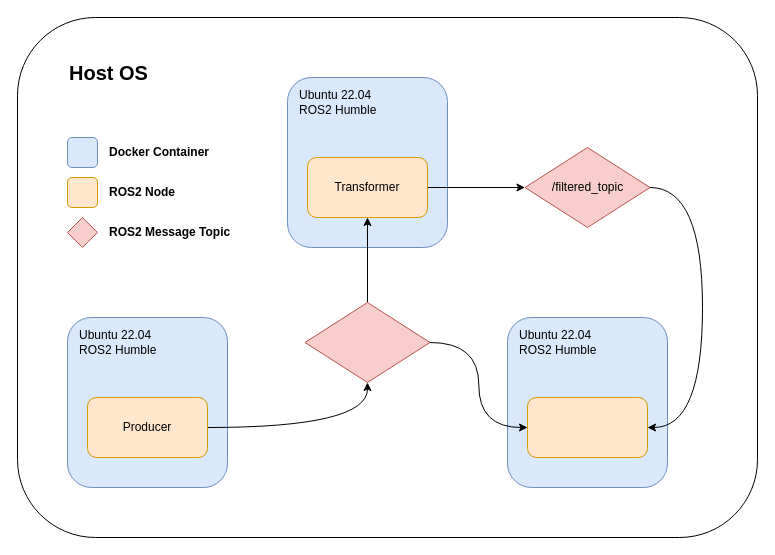
This 775x555 diagram has some shape labels left out. Here are the shapes that lost their labels. From the top down, the box of each, then its label:
(304, 302, 430, 382): /unfiltered_topic
(526, 396, 648, 458): Aggregator
